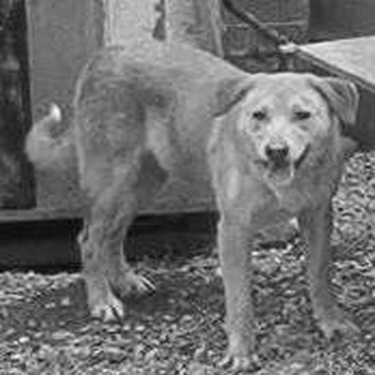dog: (22, 23, 363, 373)
